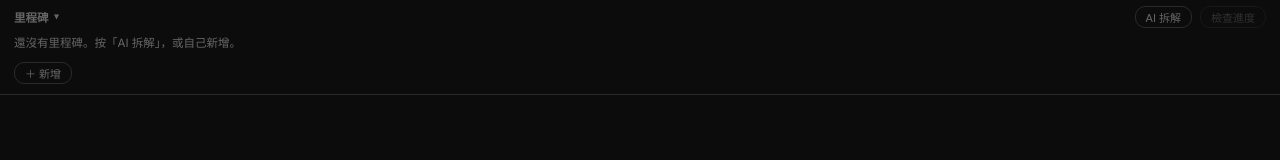
Test: MilestoneList – AI plan › shows a busy label while waiting and blocks starting a second request
Click the button "AI 拆解": [1163, 17] box [1134,6,1192,28]
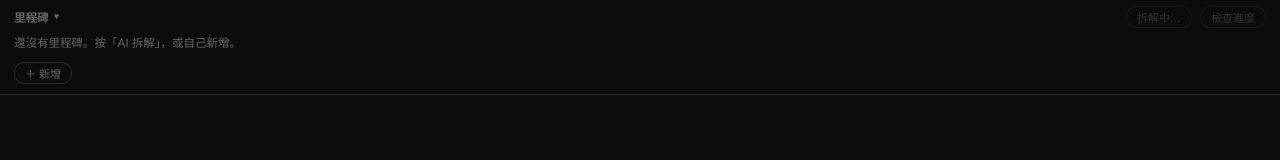
expect the button "檢查進度" is disabled: met, box [1200,6,1266,28]
expect the button "拆解中…" is disabled: met, box [1126,6,1192,28]
